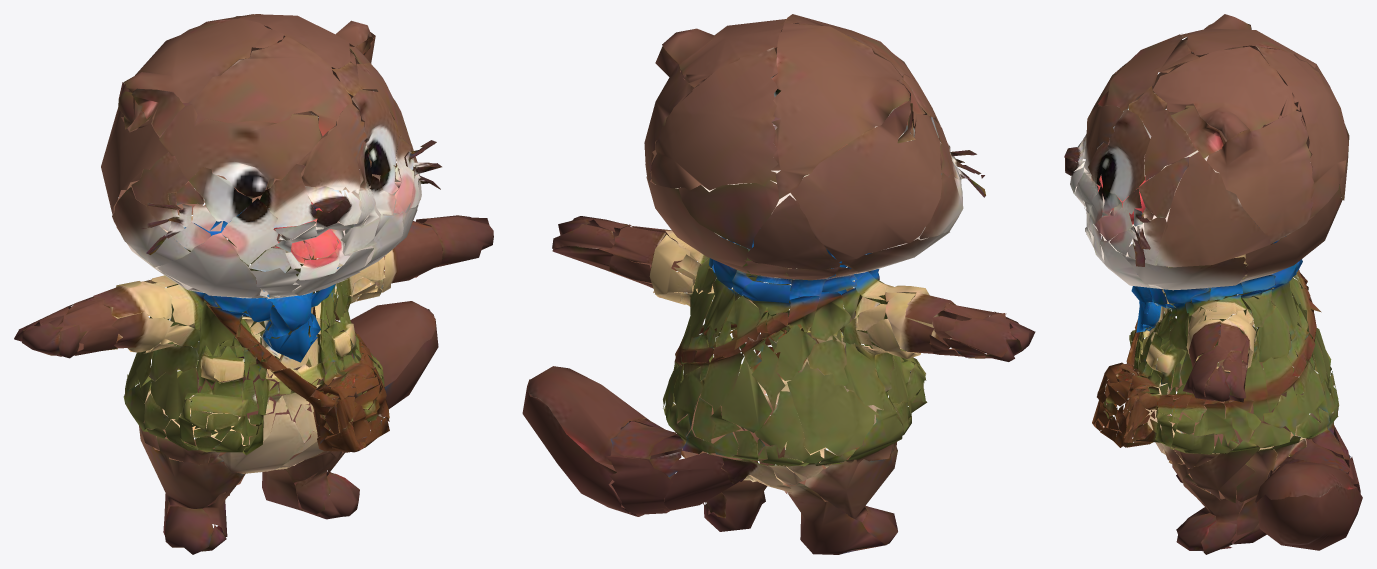
Rendered from otter-idle.glb.
3 views of the same model, side by side, from view 1: azimuth 30°, elevation 25°; view 2: azimuth 150°, elevation 25°; view 3: azimuth 270°, elevation 25° (orthographic). The views are drawn at different scales.
Visible parts, largest first — view 1: Mesh_0; view 2: Mesh_0; view 3: Mesh_0.
Boxes of the visible parts, x1,y1,x2,y2 form: Mesh_0: [14, 14, 493, 554]; Mesh_0: [522, 14, 1035, 554]; Mesh_0: [1064, 14, 1362, 554].
Size of the model in its own units: 1.89 by 1.91 by 1.1.
1 material, 1 textured.
